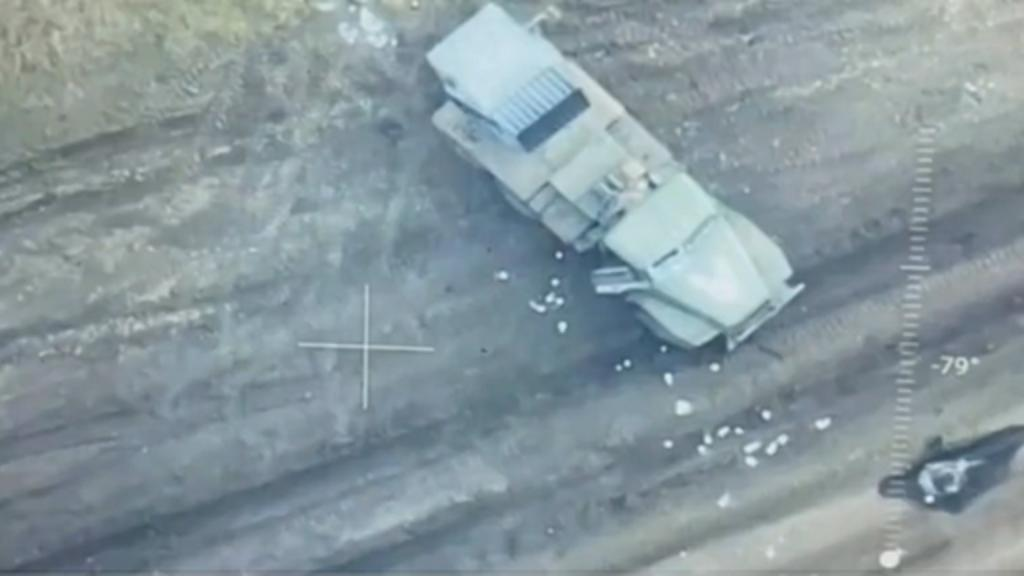MLRS: (418, 0, 806, 366)
